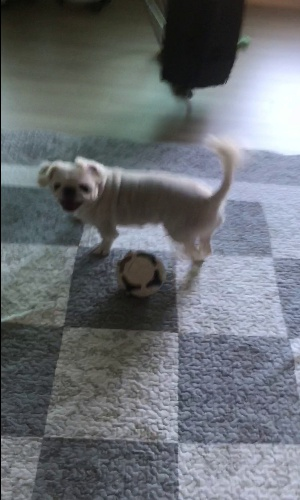ddubi: (35, 133, 240, 261)
